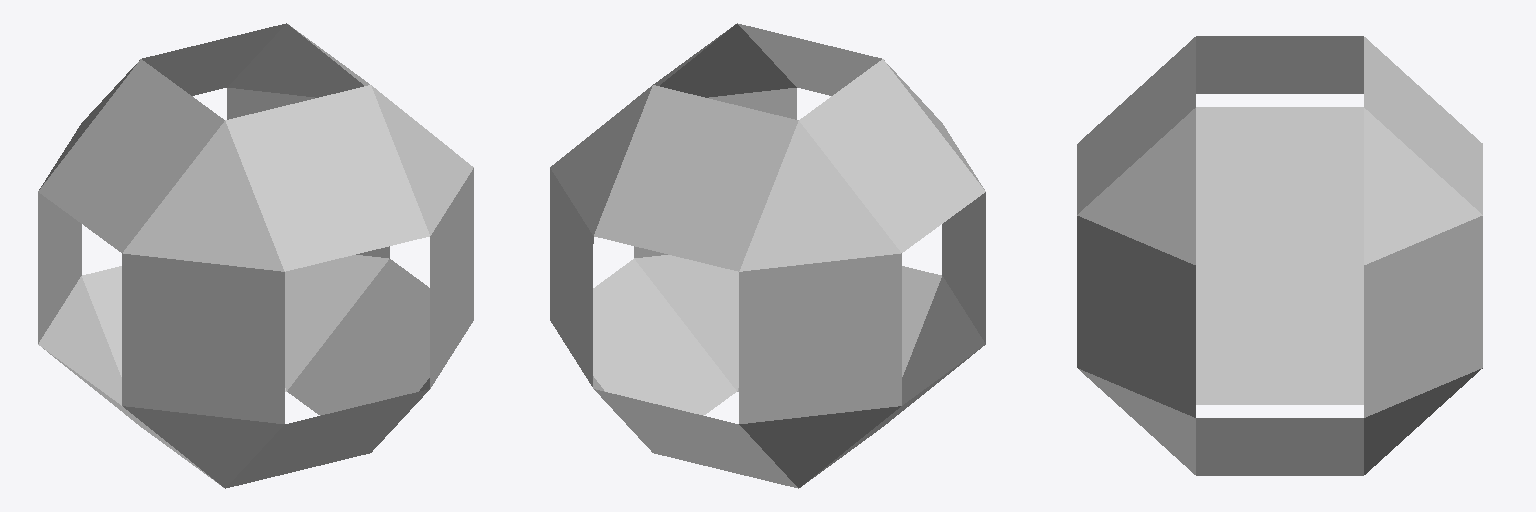
The model's file is oktenModule.obj.
3 views of the same model, side by side, from view 1: azimuth 30°, elevation 25°; view 2: azimuth 150°, elevation 25°; view 3: azimuth 270°, elevation 25° (orthographic).
Visible parts, largest first — view 1: okten_main; view 2: okten_main; view 3: okten_main.
Boxes of the visible parts, <box> form: okten_main: <box>38,23,473,488</box>; okten_main: <box>550,23,985,488</box>; okten_main: <box>1077,36,1482,475</box>.
Size of the model in its own units: 7.08 by 7.07 by 7.08.